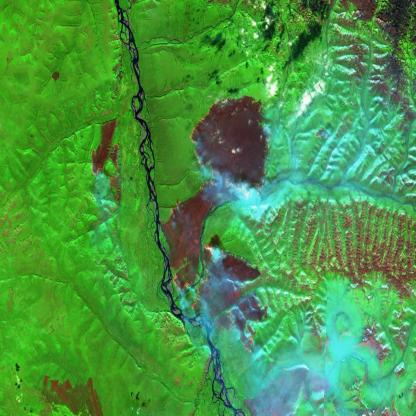fire: (172, 242, 261, 358), (189, 90, 270, 201), (89, 142, 122, 178)
